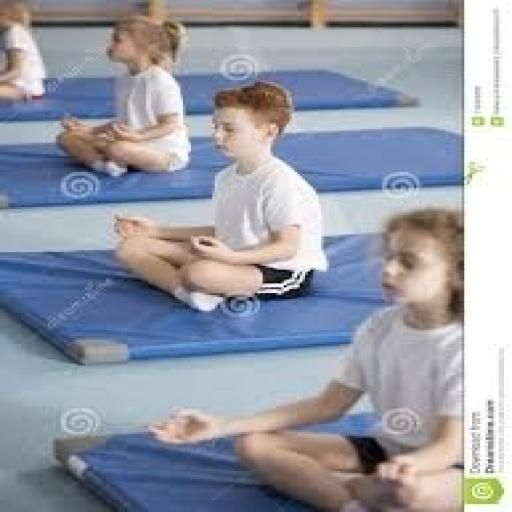sitting: (146, 205, 462, 510), (109, 78, 329, 315), (50, 14, 194, 178), (0, 0, 48, 106)
